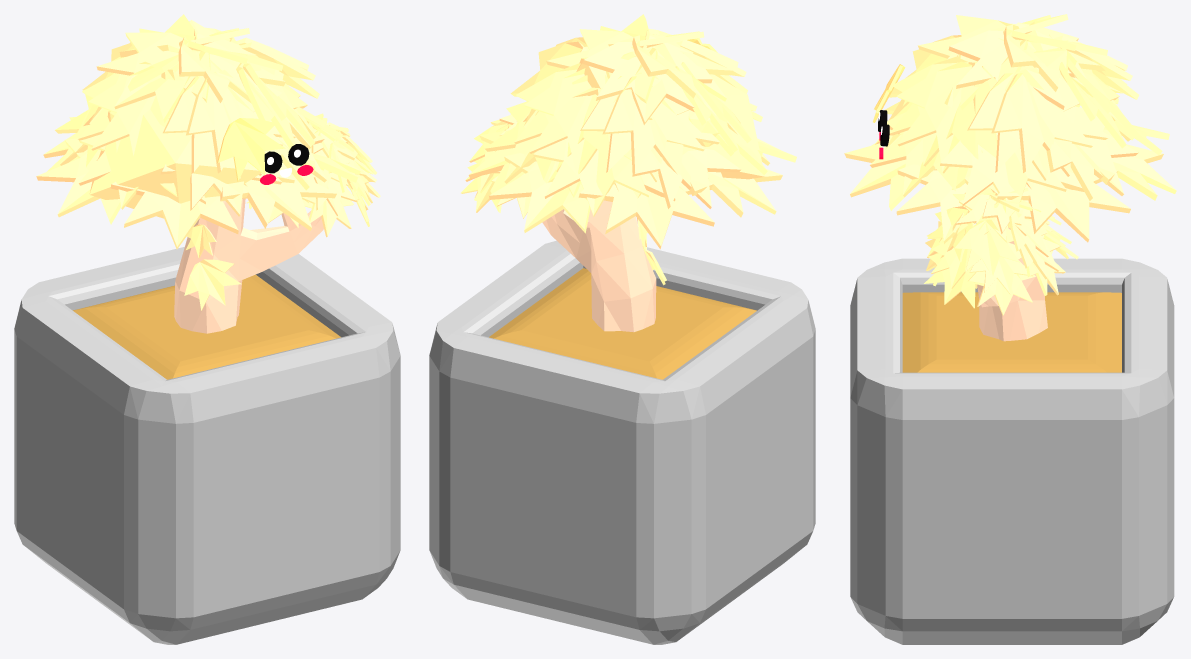
The model's file is STR_3D_maple_3.dae.
3 views of the same model, side by side, from view 1: azimuth 30°, elevation 25°; view 2: azimuth 150°, elevation 25°; view 3: azimuth 270°, elevation 25° (orthographic). The views are drawn at different scales.
Visible parts, largest first — view 1: pot.002, soil.002, Cylinder.017, Cylinder.014, Cylinder.015, Cylinder.001, Icosphere.002, Cylinder.019, Cylinder.016, Cylinder.003, Cylinder, Cylinder.031 (+5 smaller); view 2: pot.002, soil.002, Cylinder.017, Cylinder.019, Cylinder.014, Cylinder.001, Cylinder.016, Cylinder.015, Icosphere.002, Cylinder.031, Cylinder.018; view 3: pot.002, soil.002, Cylinder.019, Cylinder.015, Cylinder.017, Cylinder.016, Cylinder.014, Cylinder.029, Cylinder.031, Cylinder.030, Cylinder.001, Cylinder.028 (+2 smaller).
Part boxes in pixels (box(x1,y1,x2,y2)): pot.002: box(14, 246, 400, 644); soil.002: box(73, 274, 340, 379); Cylinder.017: box(36, 117, 360, 249); Cylinder.014: box(96, 14, 285, 122); Cylinder.015: box(82, 27, 319, 175); Cylinder.001: box(174, 185, 346, 333); Icosphere.002: box(89, 20, 283, 218); Cylinder.019: box(78, 37, 315, 179); Cylinder.016: box(55, 94, 342, 216); Cylinder.003: box(217, 118, 285, 181); Cylinder: box(184, 259, 241, 310); Cylinder.031: box(246, 169, 380, 237); pot.002: box(429, 240, 815, 644); soil.002: box(489, 268, 756, 379); Cylinder.017: box(468, 130, 796, 249); Cylinder.019: box(510, 40, 747, 181); Cylinder.014: box(546, 14, 732, 124); Cylinder.001: box(542, 200, 656, 332); Cylinder.016: box(485, 102, 769, 216); Cylinder.015: box(514, 29, 751, 174); Icosphere.002: box(576, 57, 764, 179); Cylinder.031: box(461, 163, 530, 218); Cylinder.018: box(524, 153, 723, 201); pot.002: box(850, 258, 1174, 644); soil.002: box(902, 292, 1121, 372); Cylinder.019: box(897, 34, 1139, 176); Cylinder.015: box(889, 23, 1130, 180); Cylinder.017: box(844, 120, 1176, 243); Cylinder.016: box(870, 86, 1162, 206); Cylinder.014: box(917, 14, 1107, 109); Cylinder.029: box(927, 192, 1061, 275); Cylinder.031: box(924, 221, 1078, 315); Cylinder.030: box(927, 223, 1071, 294); Cylinder.001: box(976, 223, 1047, 341); Cylinder.028: box(953, 187, 1041, 242).
Bounding box in the file's own units: 2.25 × 2.05 × 3.83.
